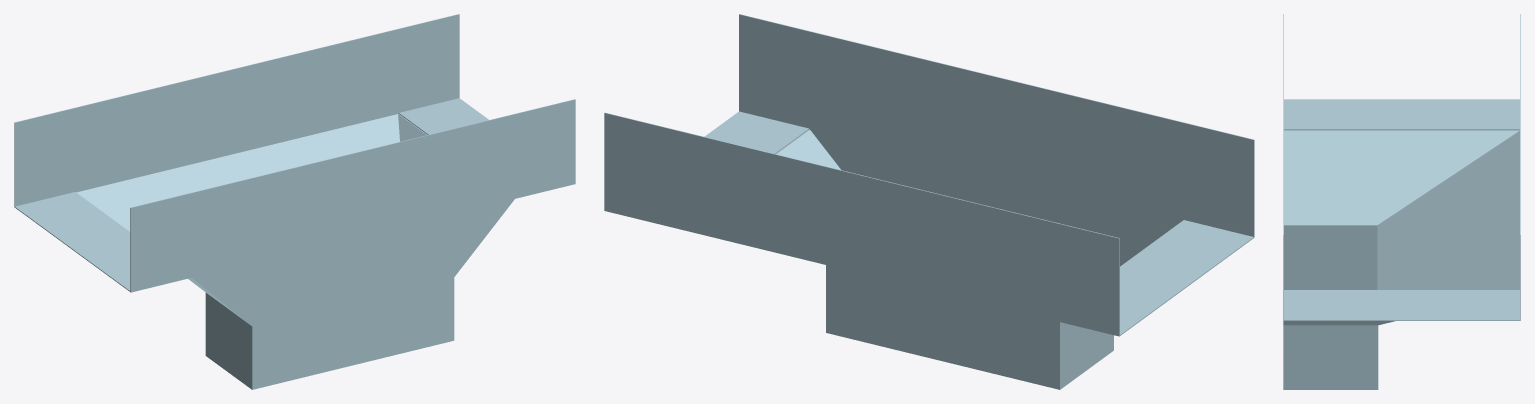
3 views of the same model, side by side, from view 1: azimuth 30°, elevation 25°; view 2: azimuth 150°, elevation 25°; view 3: azimuth 270°, elevation 25° (orthographic). The views are drawn at different scales.
Visible parts, largest first — view 1: L3-C04; view 2: L3-C04; view 3: L3-C04.
Boxes of the visible parts, <box> form: L3-C04: <box>14,14,575,389</box>; L3-C04: <box>604,14,1254,389</box>; L3-C04: <box>1283,14,1520,389</box>.
Size of the model in its own units: 1.1 by 0.5 by 0.5.
